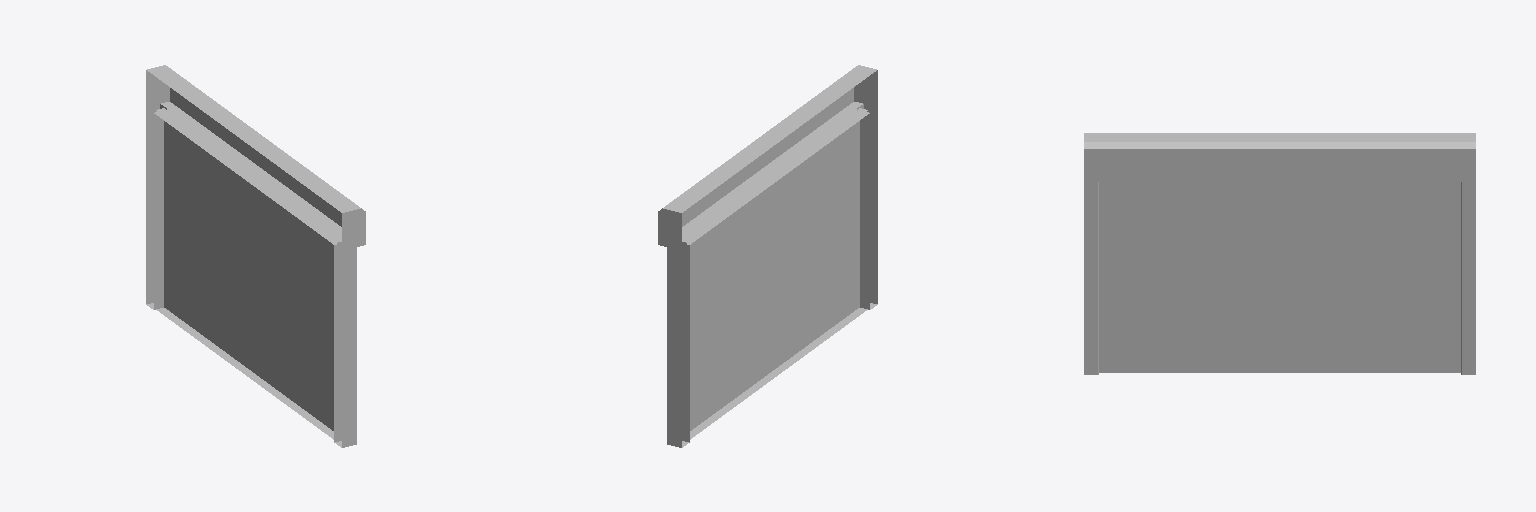
File: shutter_Low.obj
The picture shows the model from 3 angles: view 1: azimuth 30°, elevation 25°; view 2: azimuth 150°, elevation 25°; view 3: azimuth 270°, elevation 25°; orthographic projection.
Parts seen in each view (by area): view 1: shutter_low; view 2: shutter_low; view 3: shutter_low.
Part boxes in pixels (left/top/right/bottom): shutter_low: left=146, top=65, right=365, bottom=447; shutter_low: left=658, top=65, right=877, bottom=447; shutter_low: left=1084, top=133, right=1475, bottom=374.
Bounding box in the file's own units: 0.502 × 4.7 × 7.12.